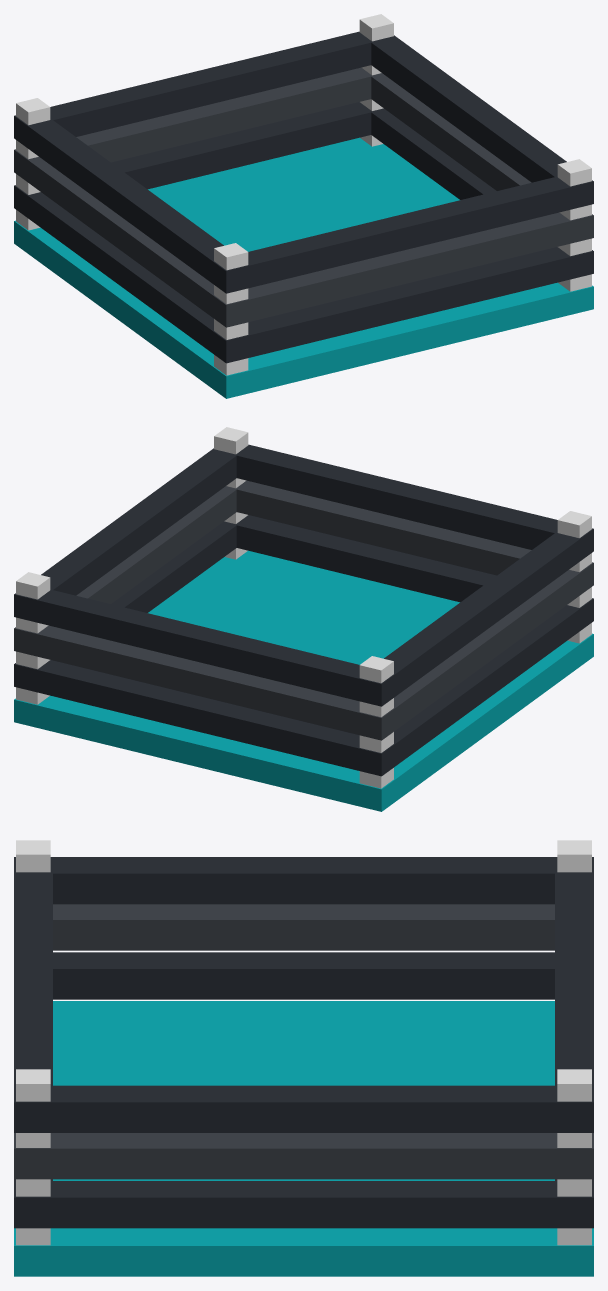
Rendered from asket.fbx.
The picture shows the model from 3 angles, top to bottom: view 1: azimuth 30°, elevation 25°; view 2: azimuth 150°, elevation 25°; view 3: azimuth 270°, elevation 25°; orthographic projection. The views are drawn at different scales.
Visible parts, largest first — view 1: Cube; view 2: Cube; view 3: Cube.
Part boxes in pixels (left/top/right/bottom): Cube: left=14, top=14, right=593, bottom=398; Cube: left=14, top=427, right=593, bottom=811; Cube: left=14, top=840, right=593, bottom=1276.
Size of the model in its own units: 200 by 73.12 by 200.
